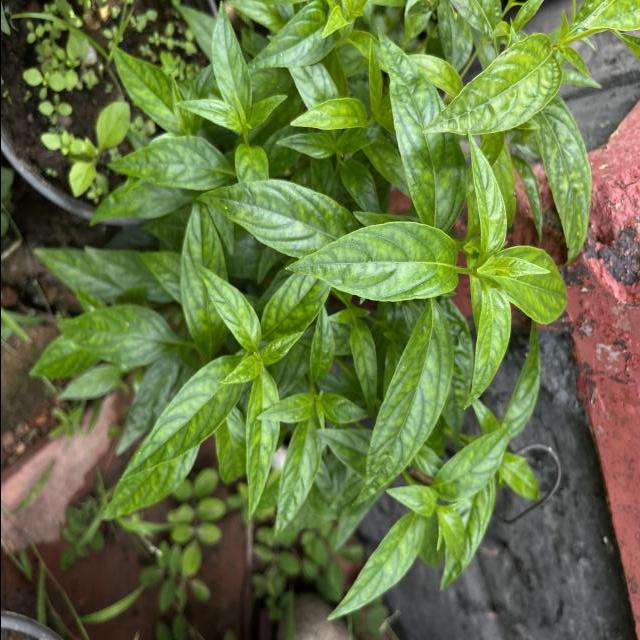Andrographis paniculata: (350, 300, 454, 508), (117, 354, 247, 484), (419, 32, 562, 138), (284, 220, 460, 304), (193, 178, 359, 258), (324, 512, 424, 622), (532, 94, 592, 267), (52, 304, 174, 366), (105, 136, 233, 192), (461, 278, 512, 411), (431, 423, 514, 502), (192, 262, 262, 352), (272, 417, 321, 541), (466, 130, 508, 266), (498, 244, 568, 325), (243, 369, 280, 521), (210, 0, 254, 117), (348, 316, 378, 419), (287, 97, 367, 131), (307, 305, 335, 383), (254, 392, 314, 424)
